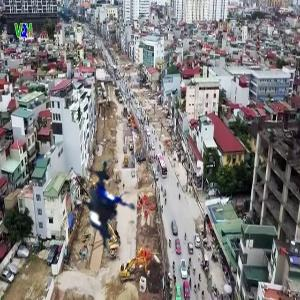drone: (62, 162, 161, 261)
